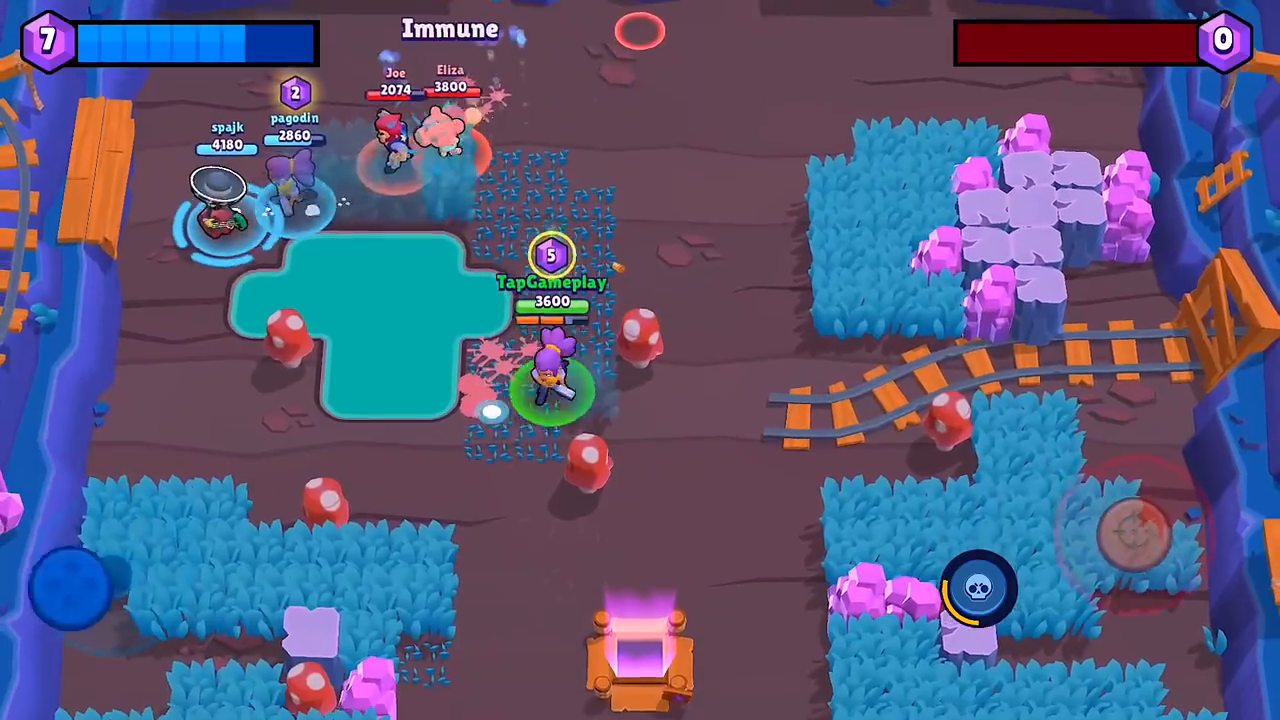move_stick: (35, 547, 109, 619)
red: (358, 78, 438, 191), (410, 82, 496, 165)
